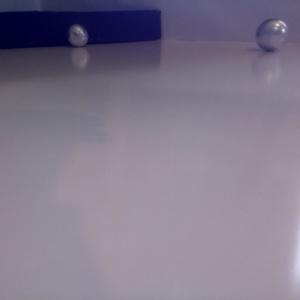zone: (1, 11, 162, 49)
